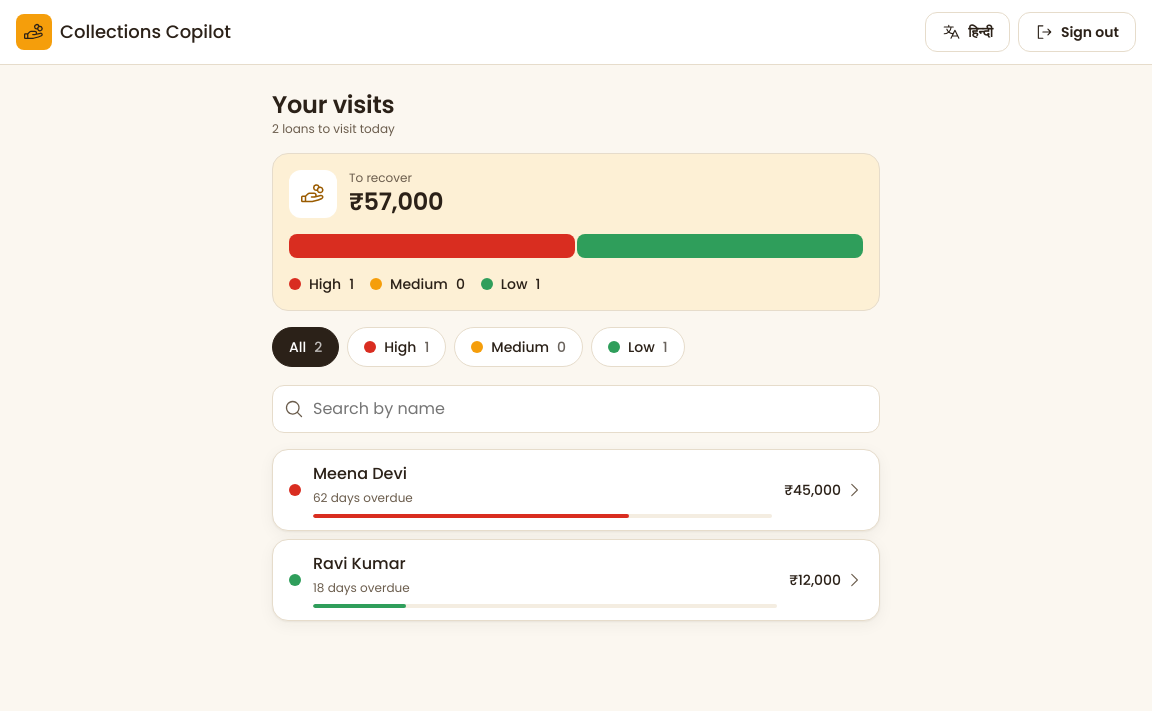
Test: loan detail › opens from the list and shows facts, promise and reasons
The image size is (1152, 711).
Step 1. Click the link "Meena Devi 62 days overdue ₹45,000" → (360, 474), box 272,449 -> 880,531
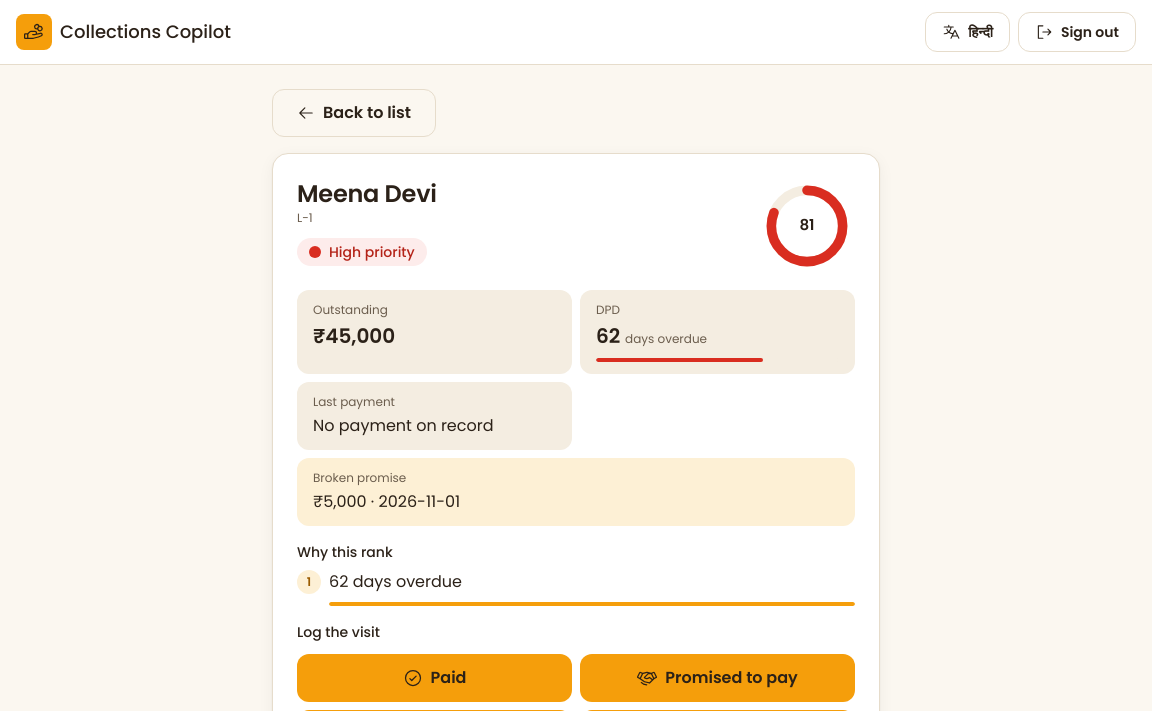
Expected: the text "No payment on record" is shown, 313,414 -> 494,437
Expected: the text "Broken promise" is shown, 313,469 -> 406,486
Expected: the text "62 days overdue" is shown, 329,570 -> 462,593
